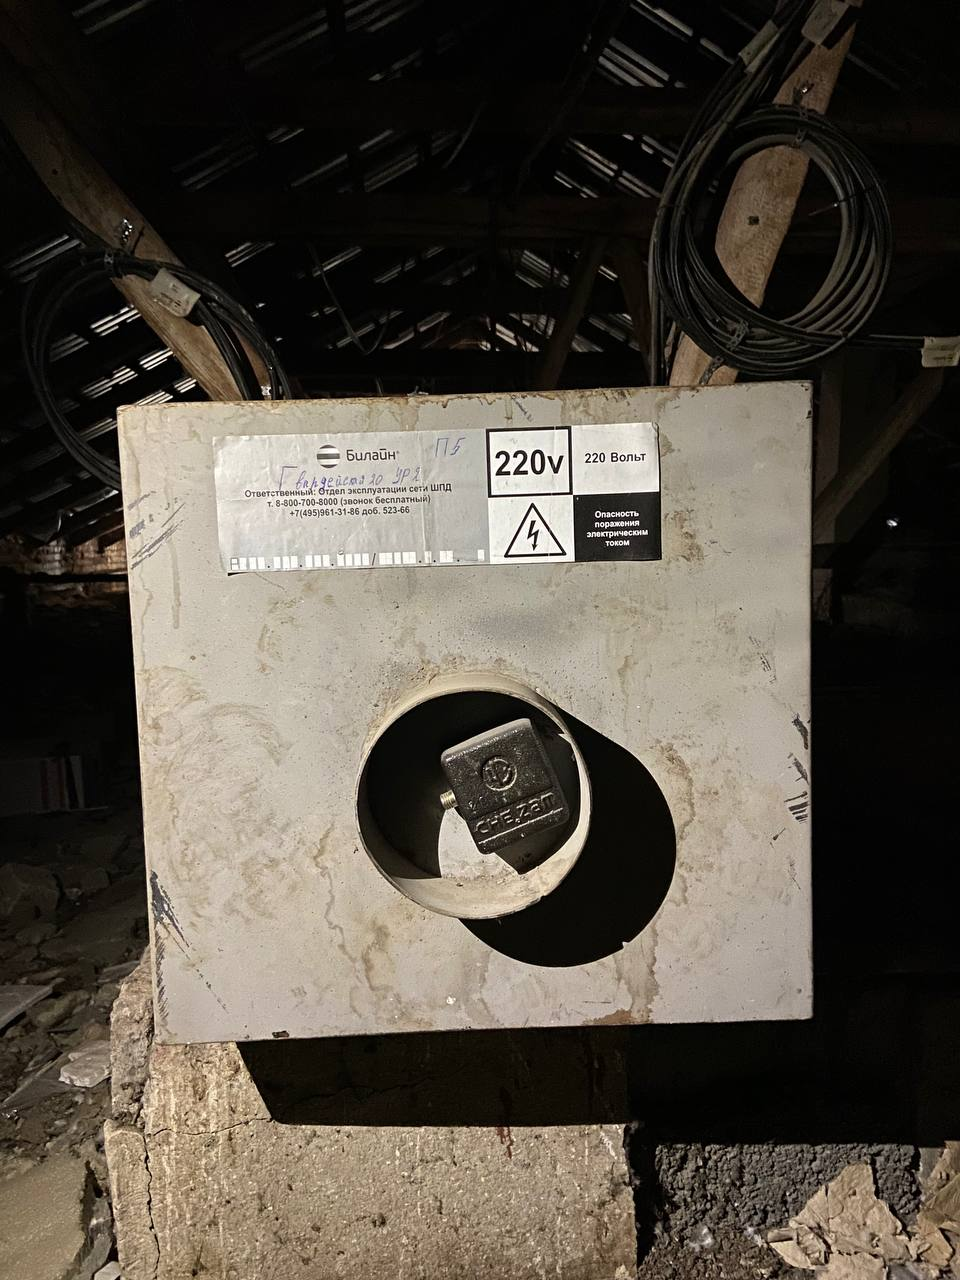shta-9: (109, 363, 837, 1053)
